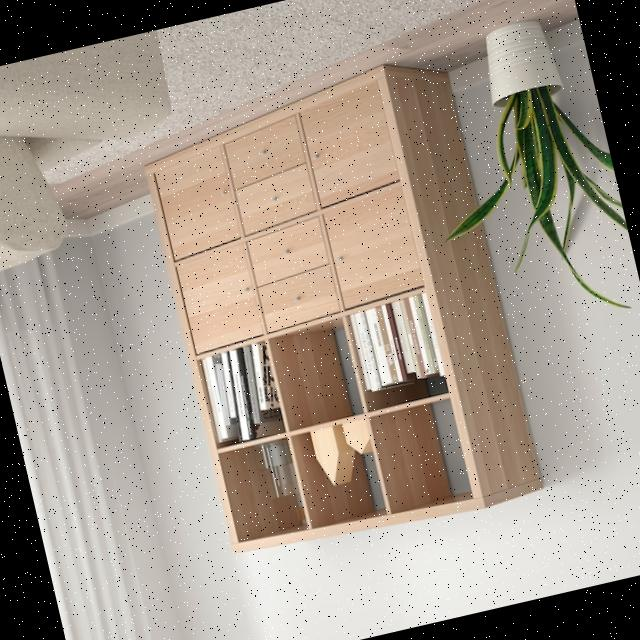Shelf: (120, 41, 558, 578)
